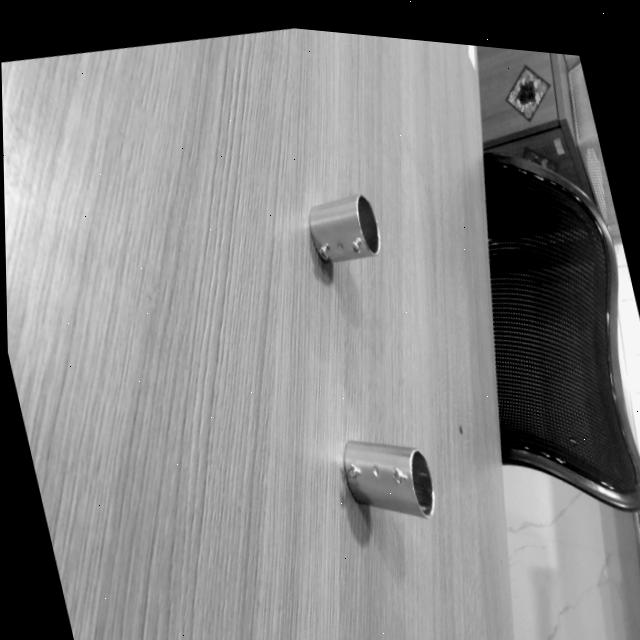Co_Lon: (337, 438, 441, 518)
Co_Nho: (304, 190, 383, 267)
